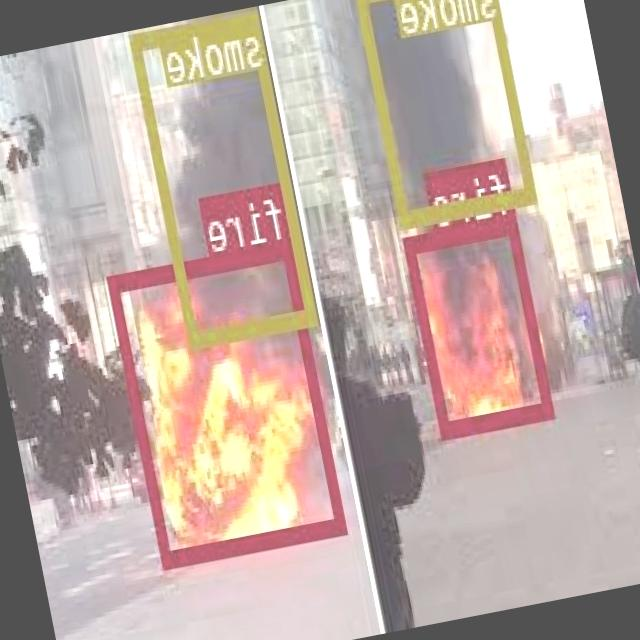fire: (110, 238, 348, 566), (406, 216, 556, 434)
smoke: (132, 6, 320, 347), (356, 0, 537, 222)
